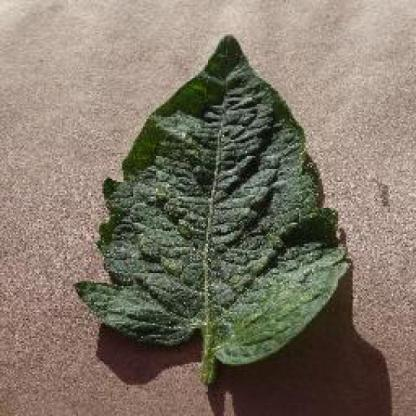Tomato_Spider_Mites: (76, 35, 350, 361)
